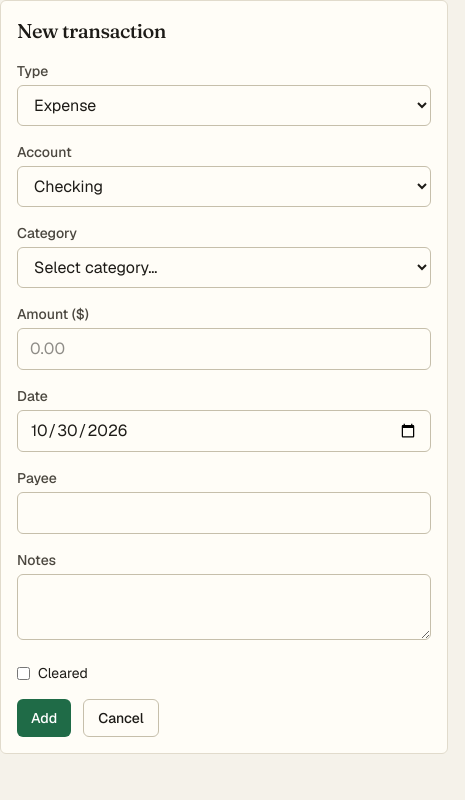
TransactionForm › rejects an expense submitted without a category
Step 1. Type "10" into the field labelled "Amount ($)" → (224, 349), box [17,328,431,370]
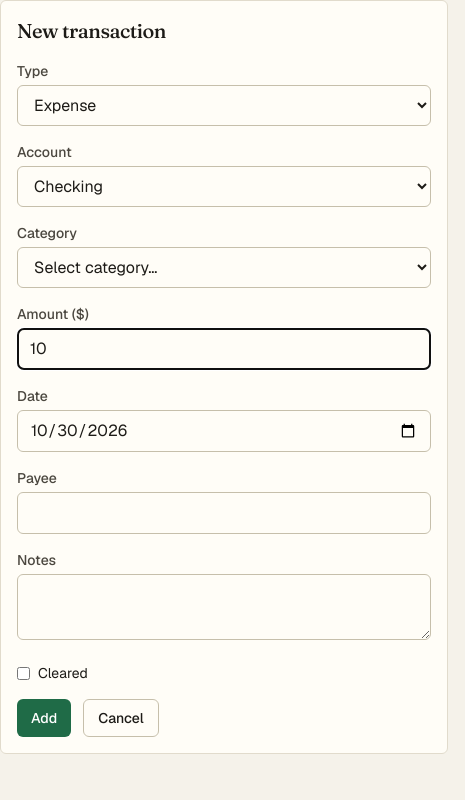
Step 2. Click the button "Add" → (44, 718), box [17,699,71,737]
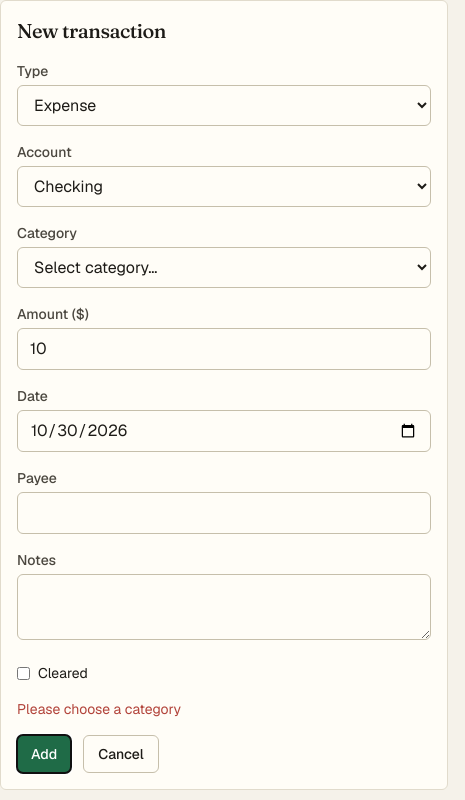
Now the text "Please choose a category" is shown, box [17,700,181,718]
